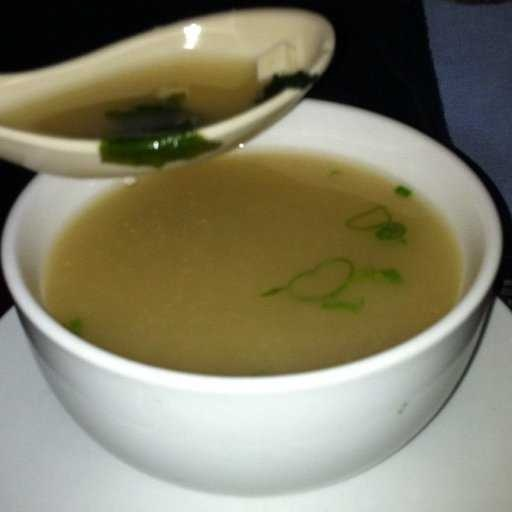soup: (1, 61, 472, 393)
